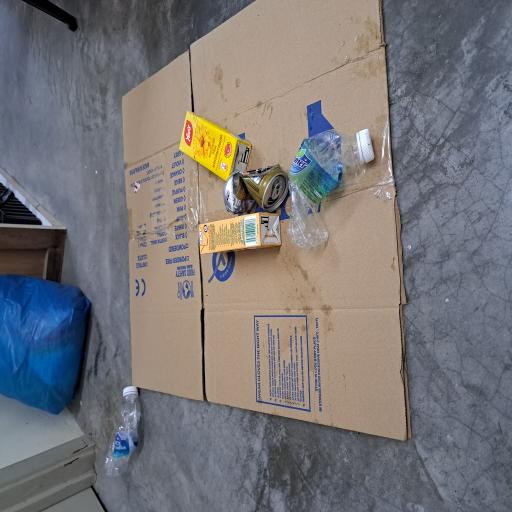can: (224, 297, 262, 386)
cardboard: (51, 162, 384, 512)
drink carton: (247, 238, 301, 336), (192, 264, 224, 376)
plastic bag: (73, 0, 179, 122)
plastic bottle: (198, 382, 287, 477), (26, 139, 88, 189)
plastic bottle cap: (261, 478, 288, 500), (86, 164, 95, 184)
pop tab: (235, 362, 247, 378)
